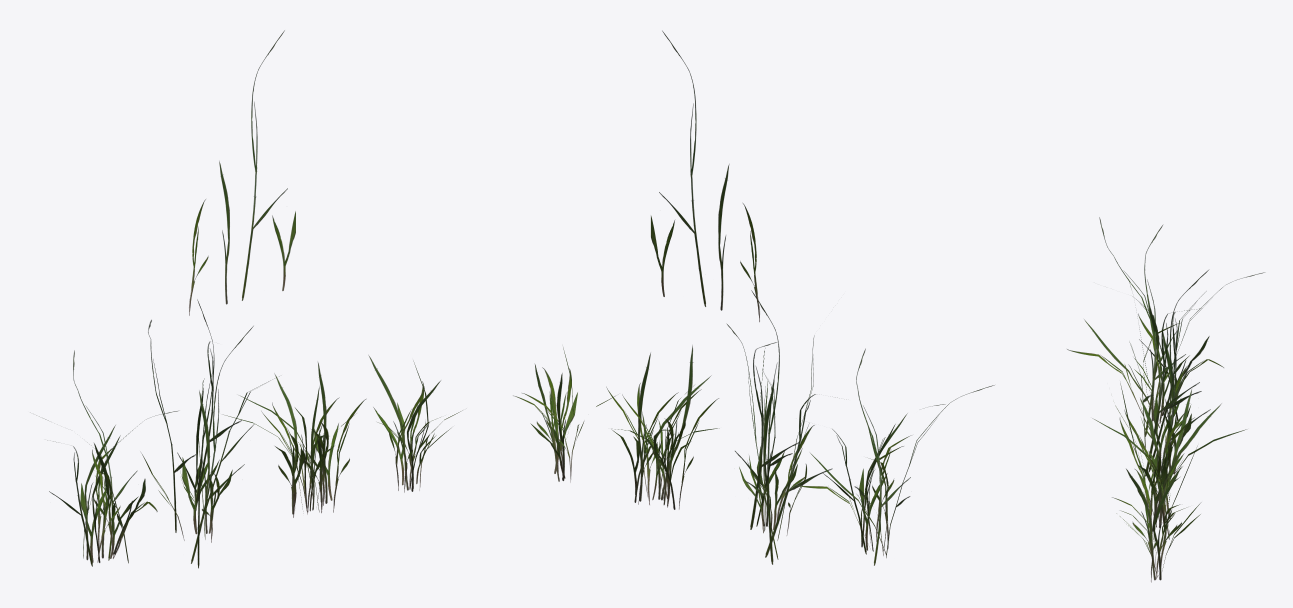
File: game_ready_grass.glb
The picture shows the model from 3 angles, left to right: view 1: azimuth 30°, elevation 25°; view 2: azimuth 150°, elevation 25°; view 3: azimuth 270°, elevation 25°; orthographic projection. The views are drawn at different scales.
Parts seen in each view (by area): view 1: trasparent grass2.003, trasparent grass4.008, trasparent grass4.005, trasparent grass4.002, trasparent grass2; view 2: trasparent grass2.003, trasparent grass4.008, trasparent grass4.005, trasparent grass4.002, trasparent grass2; view 3: trasparent grass4.008, trasparent grass4.005, trasparent grass2.003, trasparent grass4.002.
Part boxes in pixels (box(x1,y1,x2,y2)): trasparent grass2.003: box(141, 299, 279, 568); trasparent grass4.008: box(223, 362, 365, 517); trasparent grass4.005: box(36, 350, 177, 566); trasparent grass4.002: box(368, 355, 462, 492); trasparent grass2: box(242, 30, 287, 300); trasparent grass2.003: box(727, 290, 832, 564); trasparent grass4.008: box(606, 345, 719, 509); trasparent grass4.005: box(793, 348, 994, 565); trasparent grass4.002: box(513, 347, 614, 482); trasparent grass2: box(659, 30, 705, 306); trasparent grass4.008: box(1092, 383, 1246, 539); trasparent grass4.005: box(1067, 217, 1264, 436); trasparent grass2.003: box(1115, 270, 1210, 500); trasparent grass4.002: box(1112, 446, 1200, 582).
Size of the model in its own units: 6.36 by 7.16 by 2.92.
4 materials, 4 textured.
